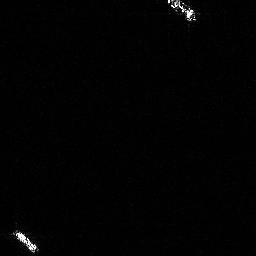ship: (8, 228, 44, 256), (163, 1, 201, 25)
